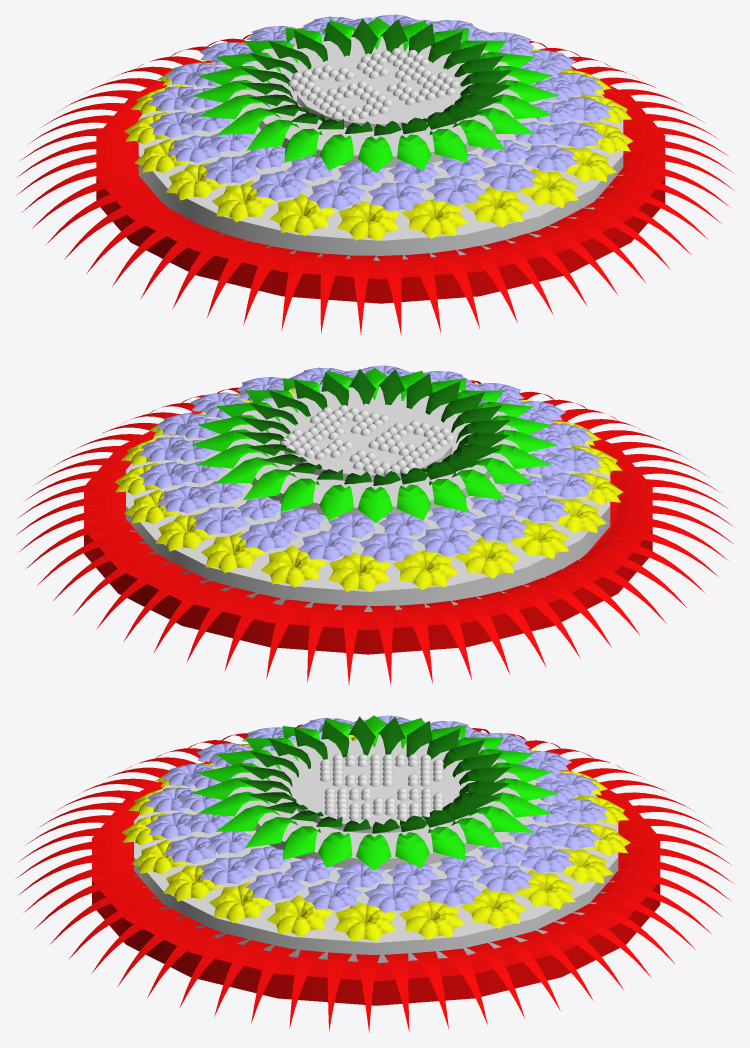
The model's file is Silleta.fbx.
3 views of the same model, one above another, from view 1: azimuth 30°, elevation 25°; view 2: azimuth 150°, elevation 25°; view 3: azimuth 270°, elevation 25° (orthographic).
Parts seen in each view (by area): view 1: base de flor, base de petalo, base de pomelo, base de hoja, flor013, flor012, flor014, flor011, flor015, flor010, flor016, flor033 (+81 smaller); view 2: base de flor, base de petalo, base de pomelo, base de hoja, flor020, flor019, flor021, flor018, flor1, flor017, flor002, flor039 (+83 smaller); view 3: base de flor, base de petalo, base de pomelo, base de hoja, flor006, flor005, flor007, flor004, flor008, flor003, flor009, flor026 (+84 smaller).
Boxes of the visible parts, x1,y1,x2,y2 form: base de flor: (138, 36, 623, 260); base de petalo: (96, 60, 665, 303); base de pomelo: (297, 52, 464, 130); base de hoja: (256, 50, 505, 167); flor013: (337, 201, 399, 240); flor012: (402, 198, 467, 238); flor014: (270, 193, 335, 235); flor011: (464, 185, 529, 227); flor015: (212, 180, 276, 222); flor010: (519, 168, 578, 207); flor016: (166, 162, 225, 200); flor033: (368, 182, 425, 211); base de flor: (126, 386, 610, 611); base de petalo: (84, 412, 652, 654); base de pomelo: (284, 403, 452, 482); base de hoja: (243, 401, 492, 518); flor020: (328, 552, 390, 592); flor019: (393, 549, 458, 589); flor021: (260, 545, 326, 587); flor018: (455, 536, 519, 578); flor1: (201, 531, 265, 573); flor017: (510, 519, 568, 559); flor002: (155, 513, 214, 551); flor039: (417, 527, 477, 557); base de flor: (134, 735, 618, 962); base de petalo: (92, 762, 660, 1005); base de pomelo: (292, 754, 459, 833); base de hoja: (251, 752, 500, 869); flor006: (334, 902, 396, 941); flor005: (399, 900, 464, 939); flor007: (267, 895, 332, 937); flor004: (461, 887, 526, 928); flor008: (209, 882, 273, 923); flor003: (515, 870, 575, 909); flor009: (163, 863, 222, 901); flor026: (364, 883, 421, 912).
Size of the model in its own units: 88.1 by 14.48 by 88.09.
